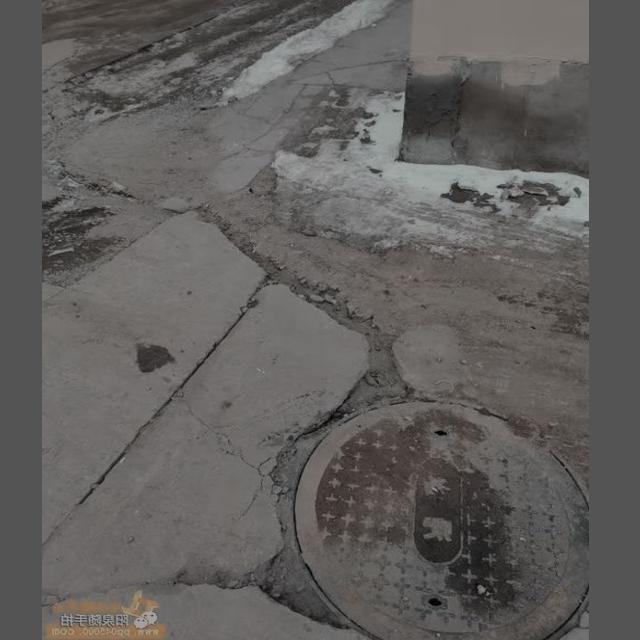circle: (199, 379, 583, 637)
